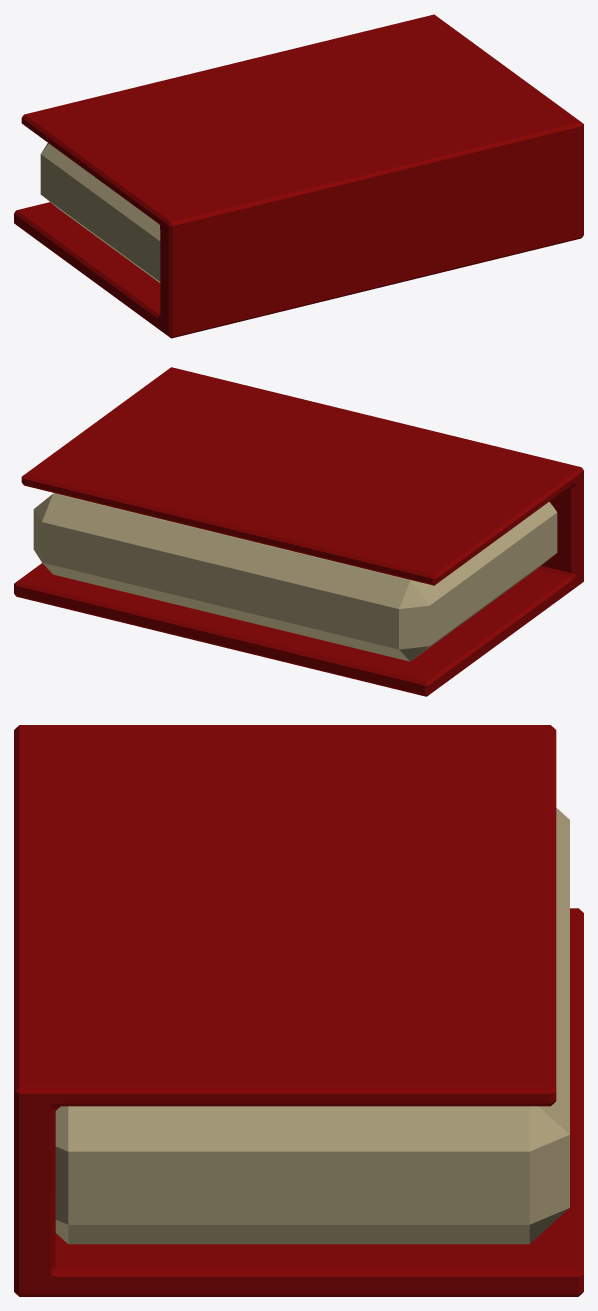
The model's file is Book_Red.fbx.
3 renders of one model, top to bottom at view 1: azimuth 30°, elevation 25°; view 2: azimuth 150°, elevation 25°; view 3: azimuth 270°, elevation 25°, orthographic. The views are drawn at different scales.
Visible parts, largest first — view 1: pasted__Paper; view 2: pasted__Paper; view 3: pasted__Paper.
Boxes of the visible parts, x1,y1,x2,y2 form: pasted__Paper: (14, 14, 583, 338); pasted__Paper: (14, 367, 583, 696); pasted__Paper: (14, 725, 583, 1296).
Size of the model in its own units: 2.6 by 0.6972 by 1.71.
